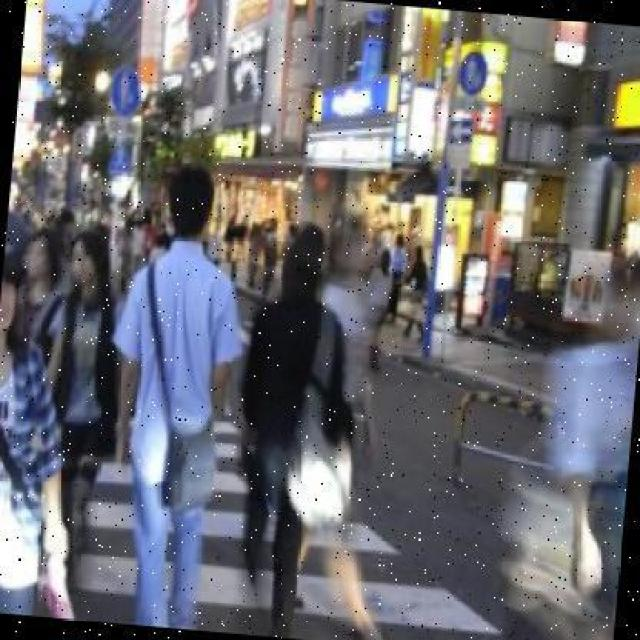Person: (101, 162, 254, 629), (221, 222, 359, 640), (31, 229, 127, 606)
